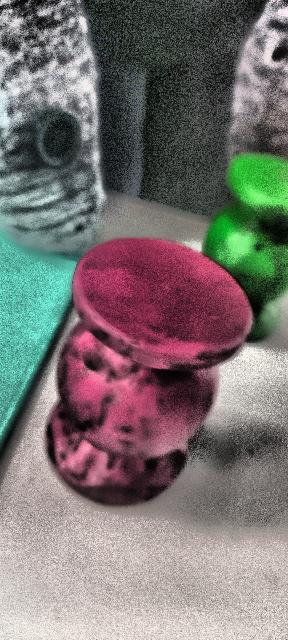green: (194, 152, 288, 348)
red: (42, 234, 255, 510)
